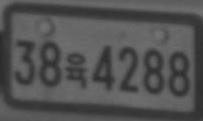2: (119, 46, 140, 92)
3: (13, 38, 36, 86)
4: (91, 45, 115, 91)
8: (38, 41, 61, 86), (168, 51, 191, 96), (143, 49, 165, 94)
육: (65, 53, 88, 88)
